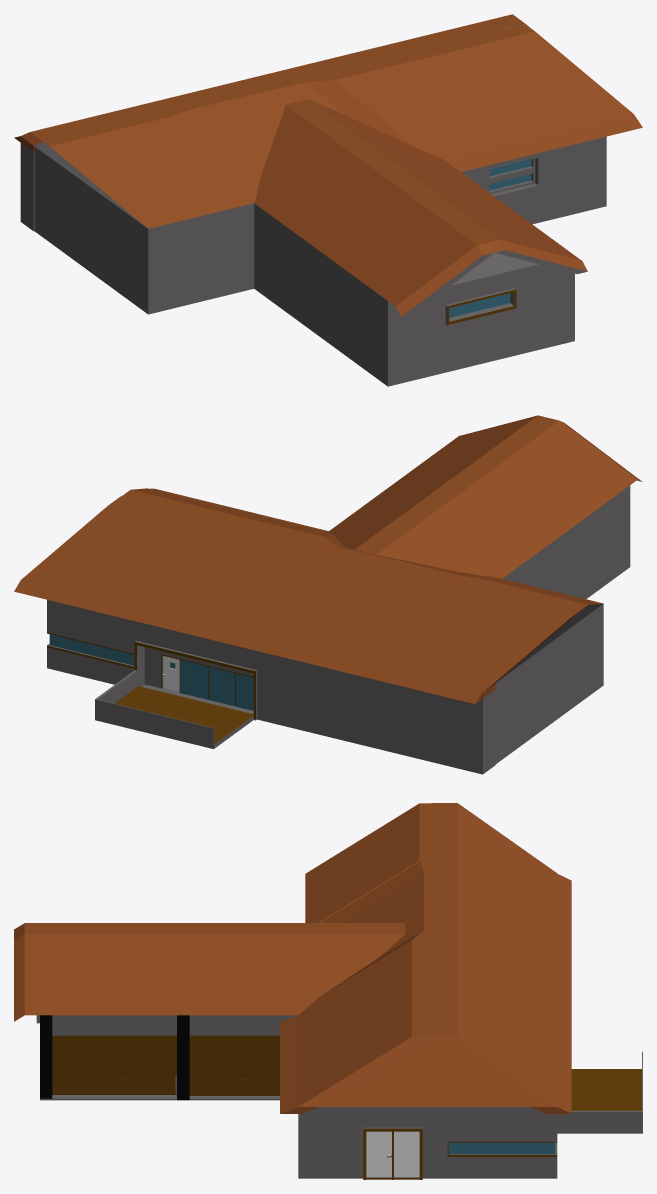
The model's file is Dom 2.fbx.
The picture shows the model from 3 angles, top to bottom: view 1: azimuth 30°, elevation 25°; view 2: azimuth 150°, elevation 25°; view 3: azimuth 270°, elevation 25°; orthographic projection. The views are drawn at different scales.
Visible parts, largest first — view 1: Cube; view 2: Cube; view 3: Cube.
Part boxes in pixels (bbox=[...]): Cube: bbox=[14, 14, 642, 386]; Cube: bbox=[14, 415, 642, 774]; Cube: bbox=[14, 803, 642, 1179].
Bounding box in the file's own units: 4595 × 1145 × 4821.
